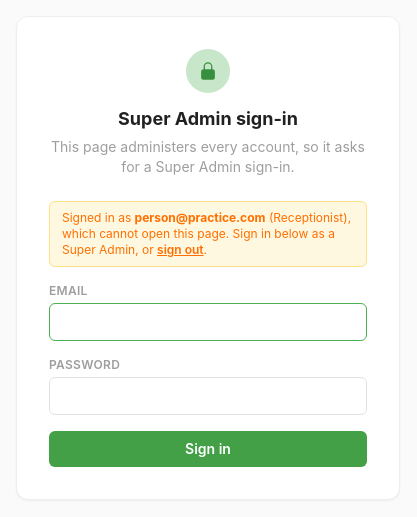
Scenario: signing in on the page › signing out from the wrong-account notice clears the session
Click the button "sign out" at x=180, y=250, box [157,242,204,258]
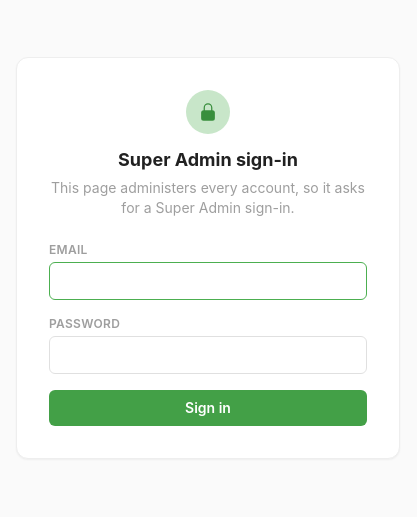
expect the text "cannot open this page" is gone: met
